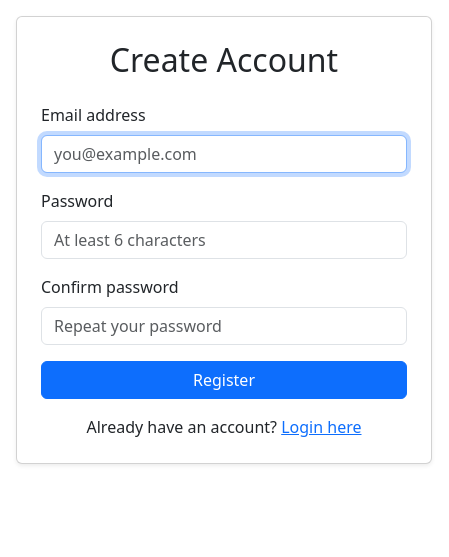
Test: RegisterPage › displays server error from context
The width and height of the screenshot is (449, 557).
Type "existing@test.com" into the field labelled "Email address" at (224, 154), box [41,135,407,173]
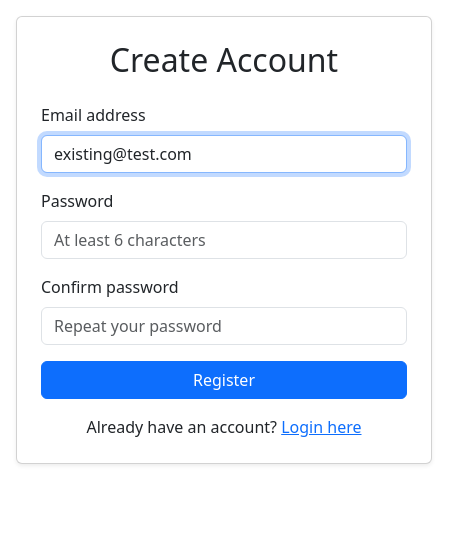
Type "123456" into the password field labelled "Password" at (224, 240), box [41,221,407,259]
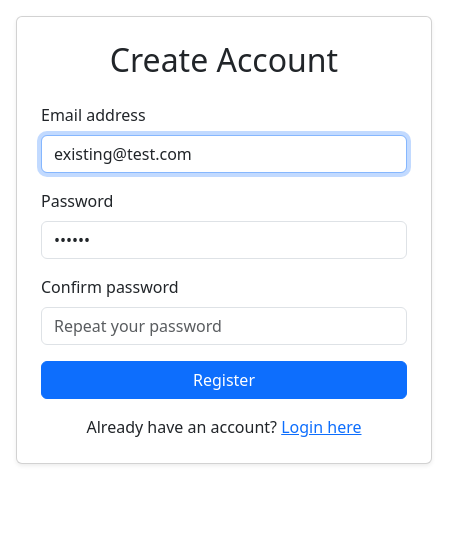
Type "123456" into the password field labelled "Confirm password" at (224, 326), box [41,307,407,345]
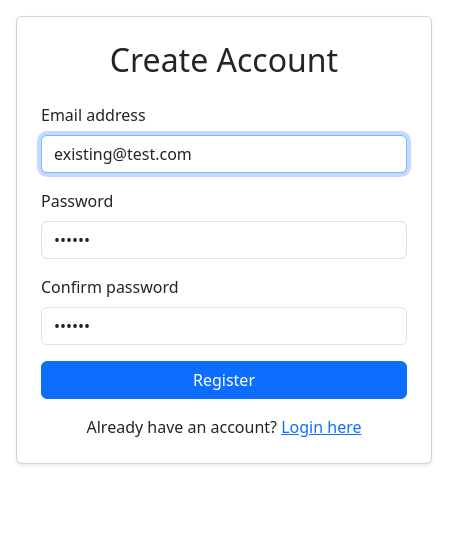
Click the button "Register" at (224, 380), box [41,361,407,399]
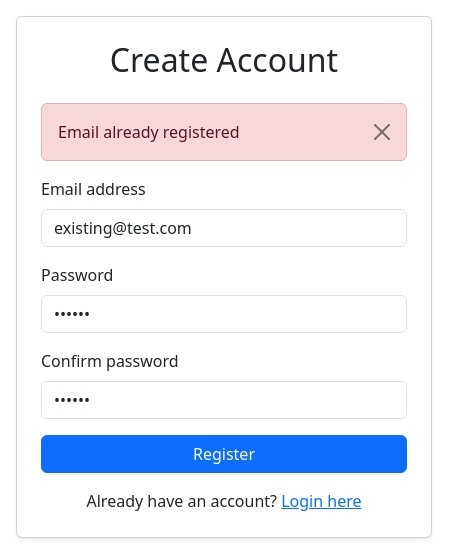
Result: the text "Email already registered" is shown at [41,103,407,161]
